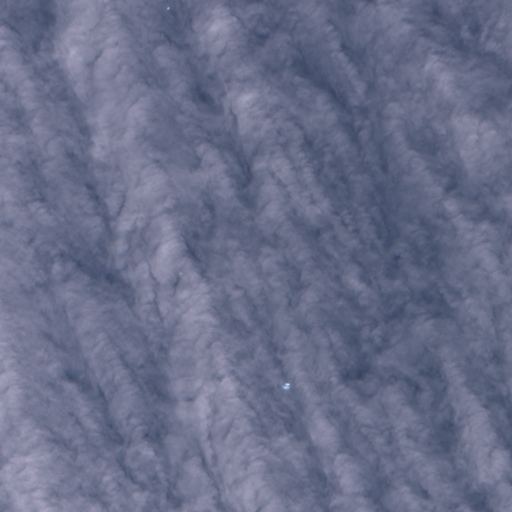Iceberg: (282, 383, 289, 389), (167, 7, 169, 9)
